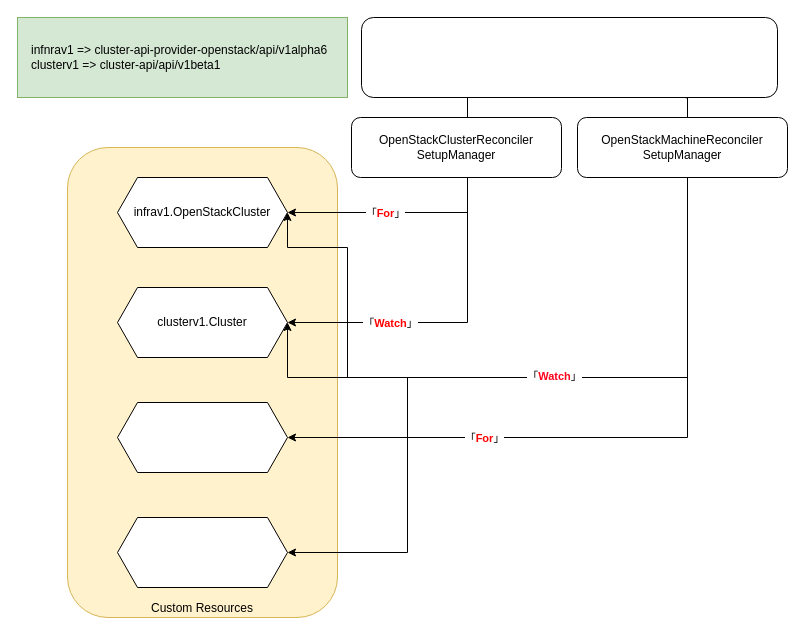
Some shapes in this 805 by 635 pixel diagram are drawn without their labels. Each missing label, with the centre of its shape:
"cluster-api openstack provider（v0.7.3）" belongs at (x=569, y=57).
"clusterv1.Machine" belongs at (x=202, y=552).
"infrav1.OpenStackMachine" belongs at (x=202, y=437).
